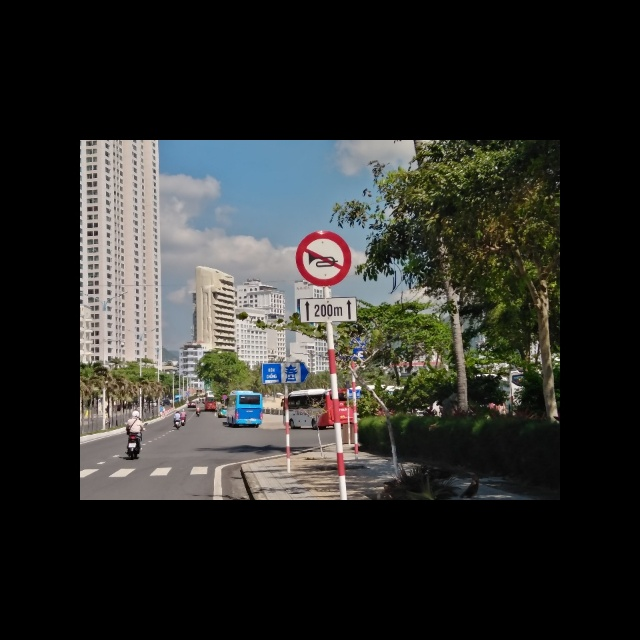Cấm bấm còi: (294, 231, 353, 286)
